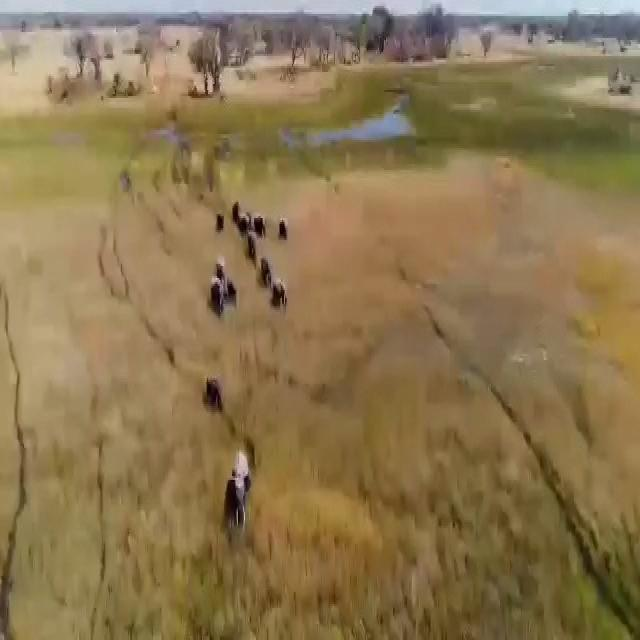Elephant: (229, 446, 251, 524), (207, 379, 225, 416), (273, 270, 286, 314), (207, 279, 223, 313), (226, 284, 244, 309), (213, 202, 226, 234), (257, 260, 270, 291), (247, 230, 261, 251), (256, 219, 269, 237), (281, 218, 289, 242), (235, 203, 242, 228), (219, 263, 226, 280)
